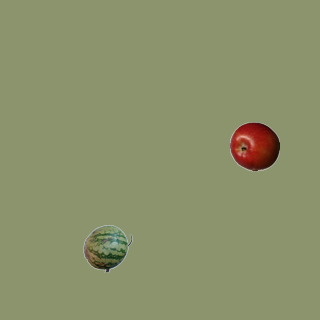Apple Braeburn: (229, 121, 279, 171)
Watermelon: (82, 223, 132, 273)
